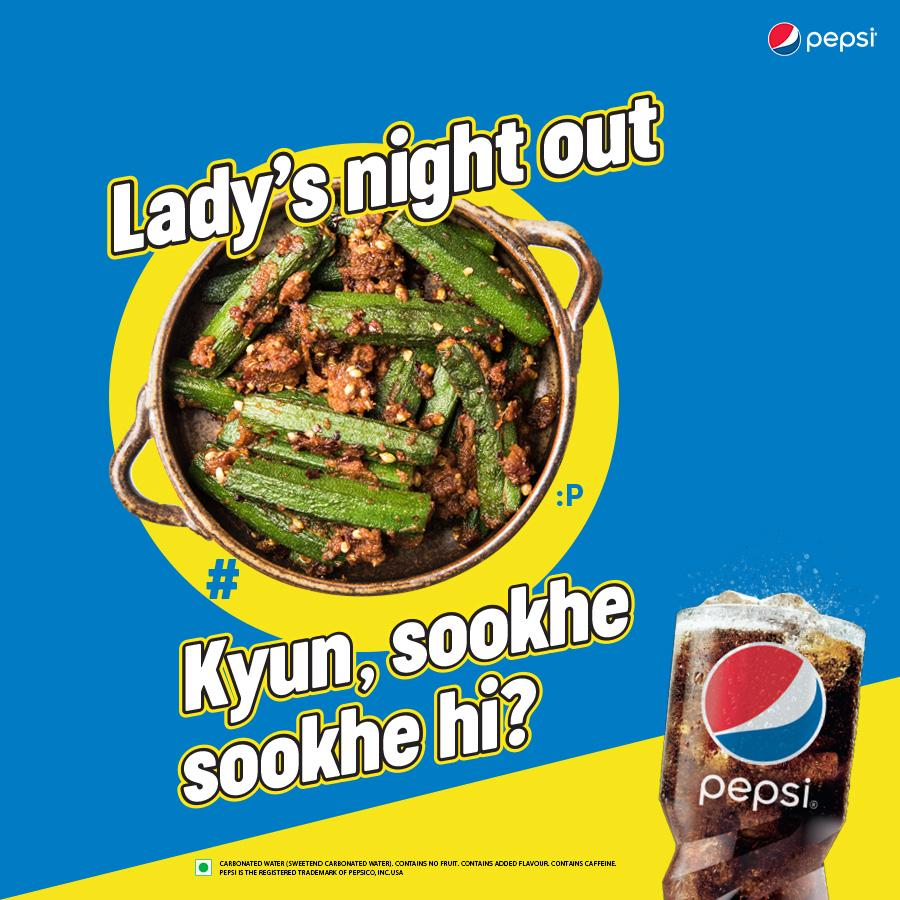pepsi: (704, 638, 824, 760), (764, 17, 800, 59)
